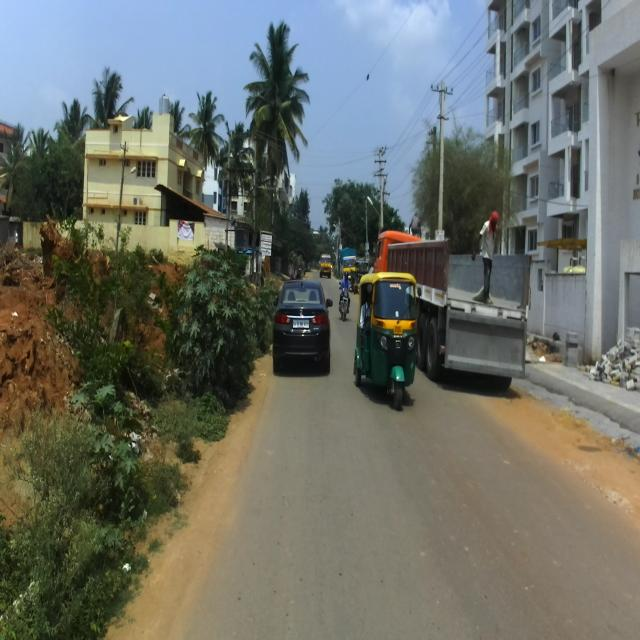auto ahead at: (354, 265, 425, 411)
car ahead at: (274, 279, 334, 378)
plant ahead at: (170, 239, 258, 422)
truck ahead at: (433, 238, 532, 391)
